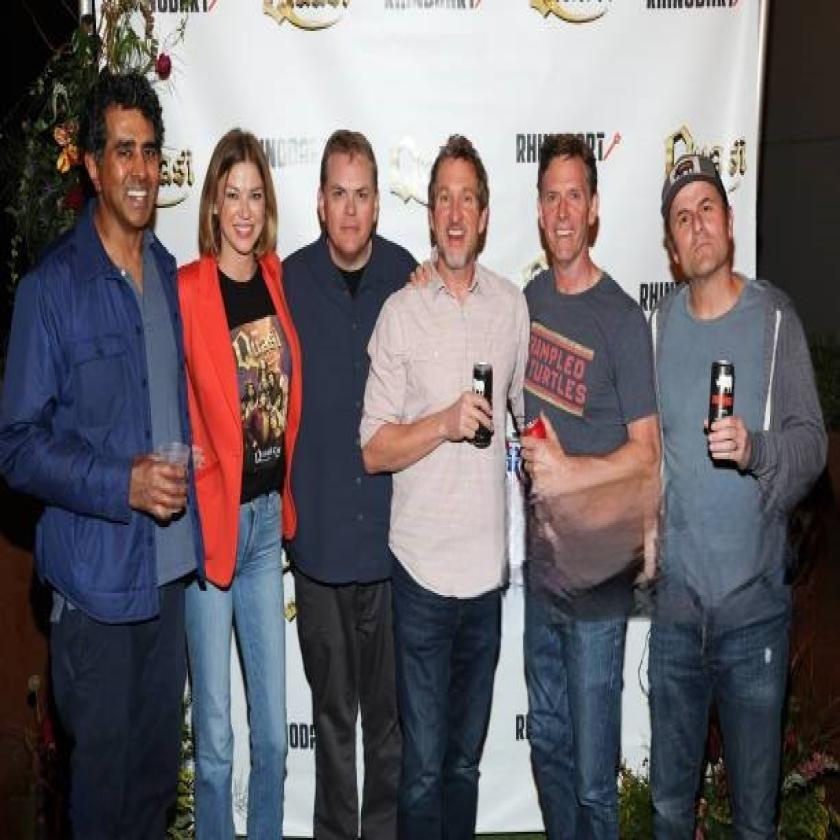Sin_casco: (78, 54, 173, 222), (523, 130, 609, 268), (200, 115, 280, 263), (325, 114, 389, 276), (421, 134, 490, 276)
